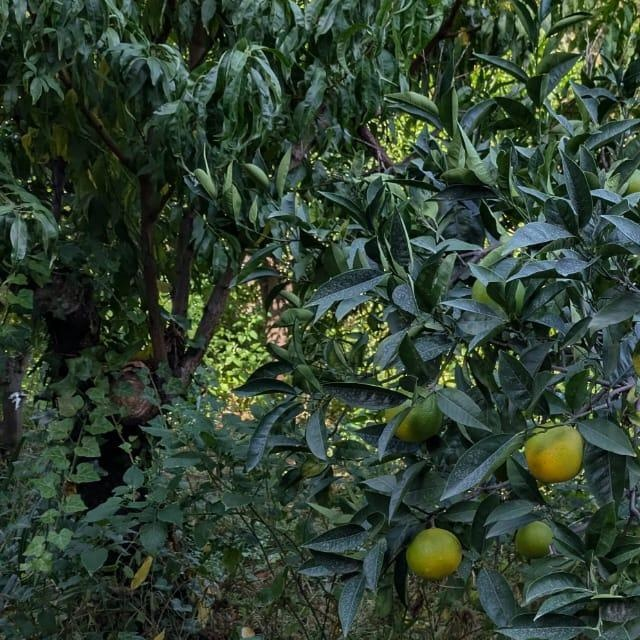orange: (522, 420, 588, 484), (403, 524, 461, 586), (469, 273, 525, 327), (396, 392, 448, 442), (512, 516, 556, 562), (607, 166, 640, 202), (639, 510, 640, 570)
